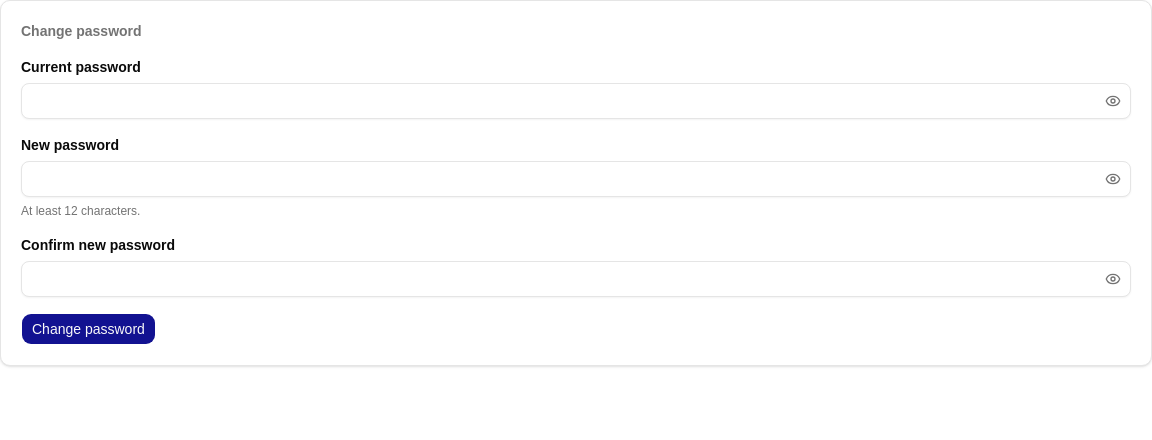
Scenario: ChangePasswordForm › changed_signed_out → the log-in-again message and link
Type "current-password-1" into the password field labelled "Current password".
click(576, 101); type("current-password-1")  # box [21,83,1131,119]
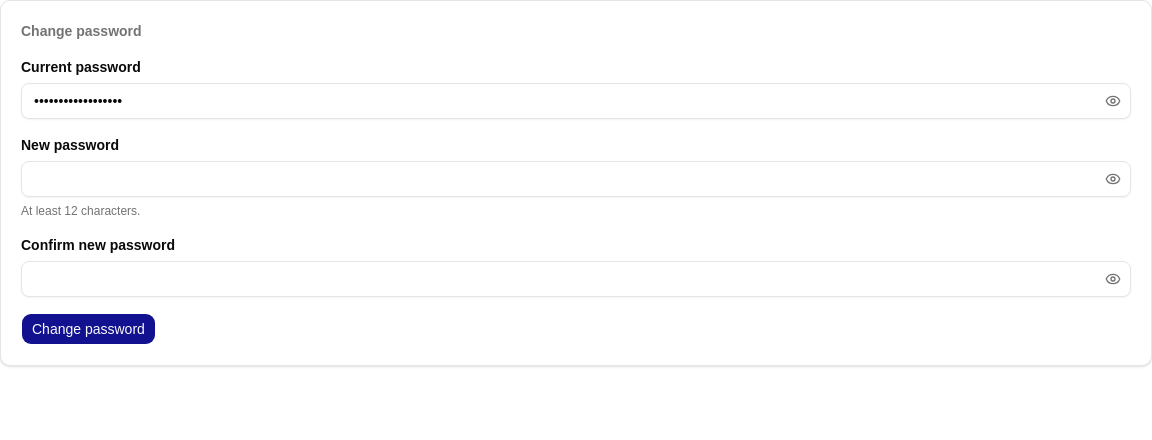
Type "brand-new-password" into the password field labelled "New password".
click(576, 179); type("brand-new-password")  # box [21,161,1131,197]
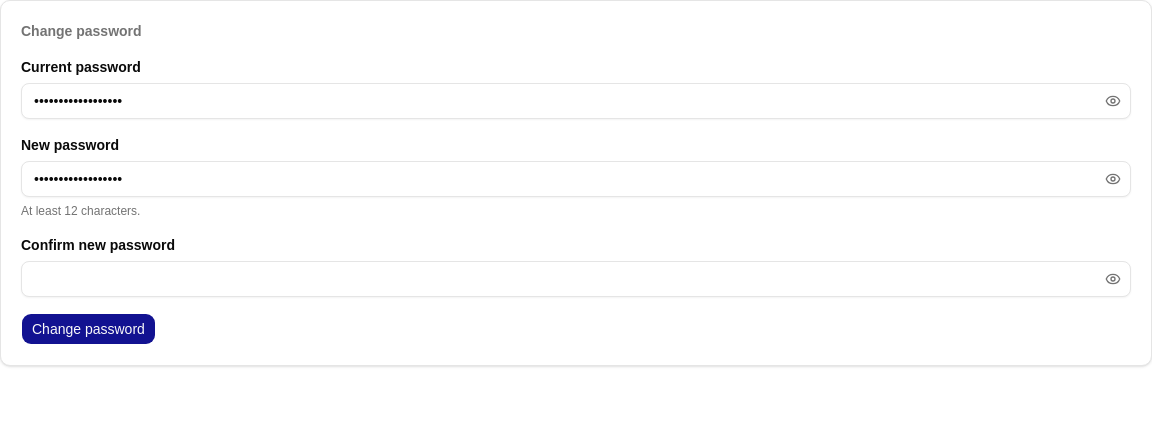
Type "brand-new-password" into the password field labelled "Confirm new password".
click(576, 279); type("brand-new-password")  # box [21,261,1131,297]
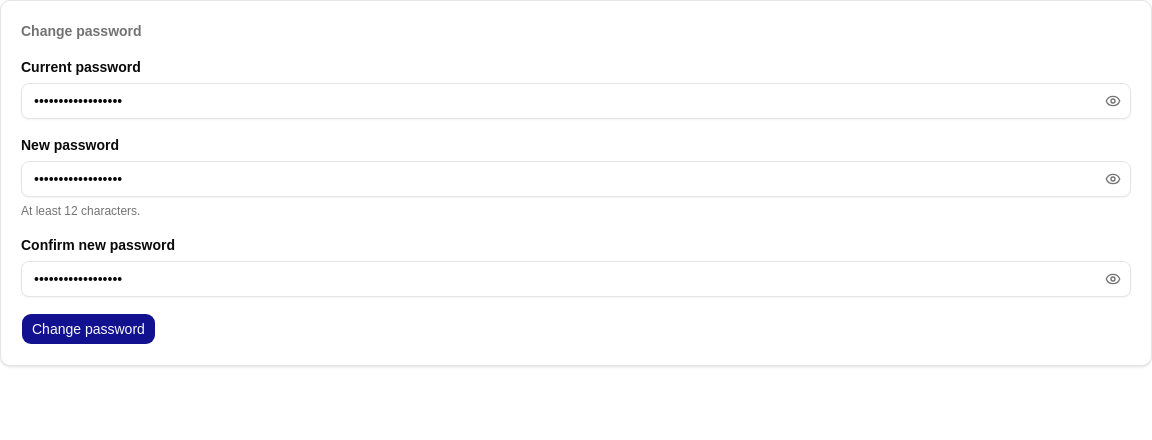
Click the button "Change password".
click(88, 329)  # box [21,313,156,345]
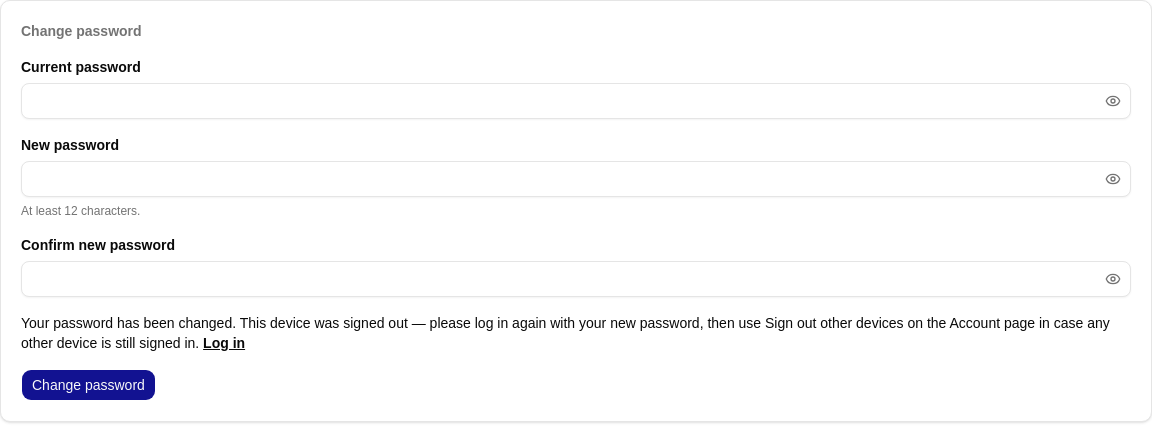
expect the message shows "Sign out other devices": met, box [21,315,1110,351]
expect the password field labelled "Current password" is empty: met, box [21,83,1131,119]
